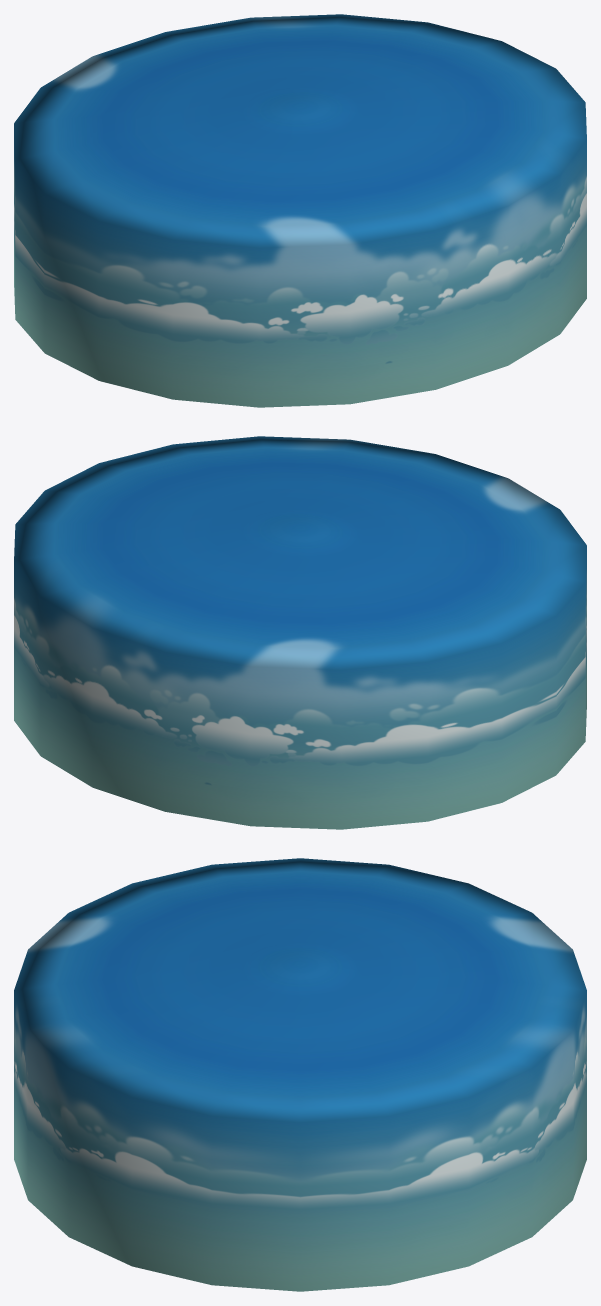
Rendered from sky.fbx.
3 renders of one model, top to bottom at view 1: azimuth 30°, elevation 25°; view 2: azimuth 150°, elevation 25°; view 3: azimuth 270°, elevation 25°, orthographic. The views are drawn at different scales.
Visible parts, largest first — view 1: sky1; view 2: sky1; view 3: sky1.
Part boxes in pixels (<box>): sky1: <box>14,14,586,407</box>; sky1: <box>14,436,586,829</box>; sky1: <box>14,858,586,1291</box>.
Bounding box in the file's own units: 905 × 313 × 829.
Materials: 2 (1 with a texture image).
